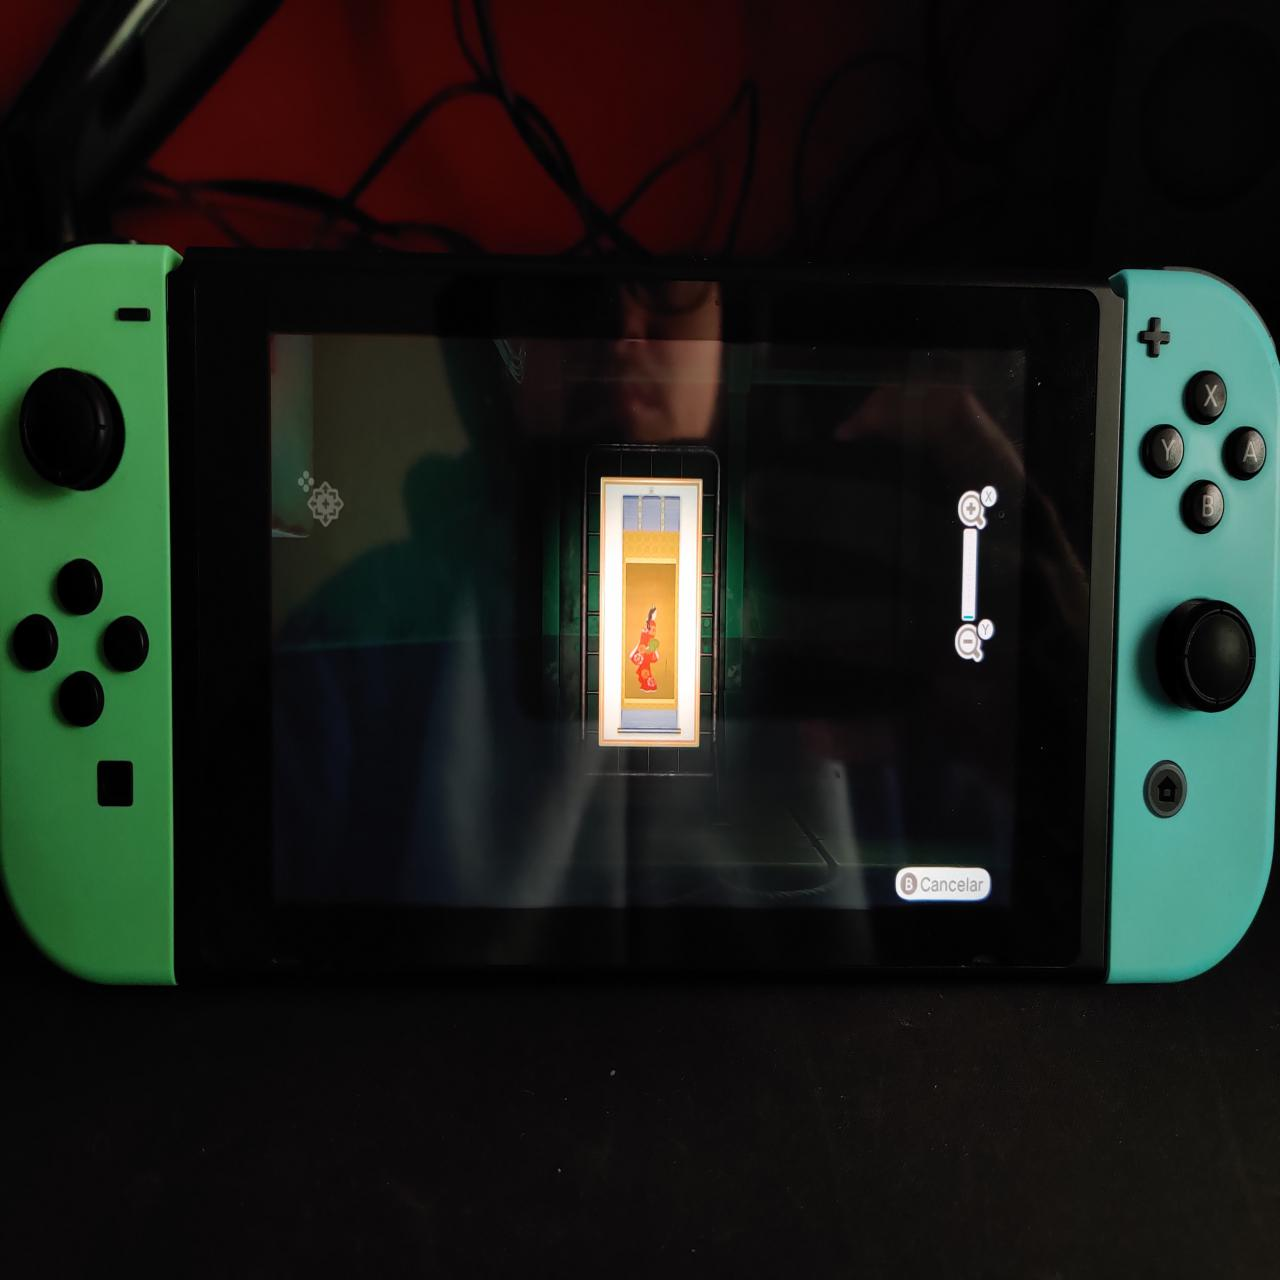Mikaeri: (629, 563, 675, 702)
